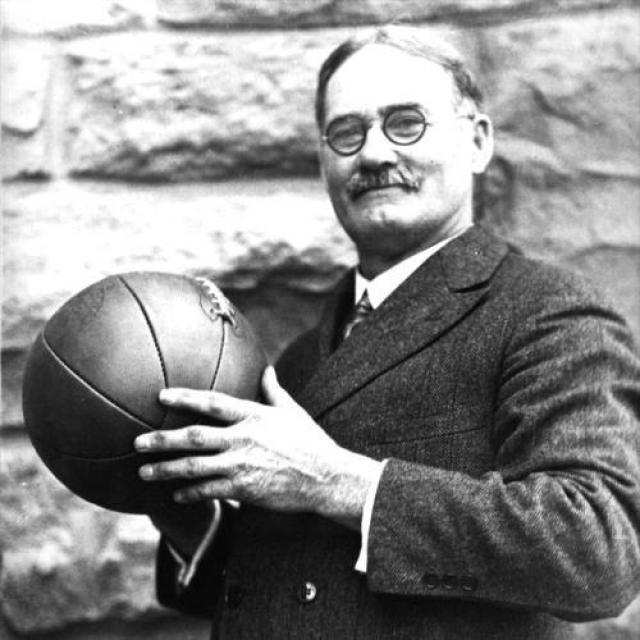Basketball: (24, 270, 269, 515)
